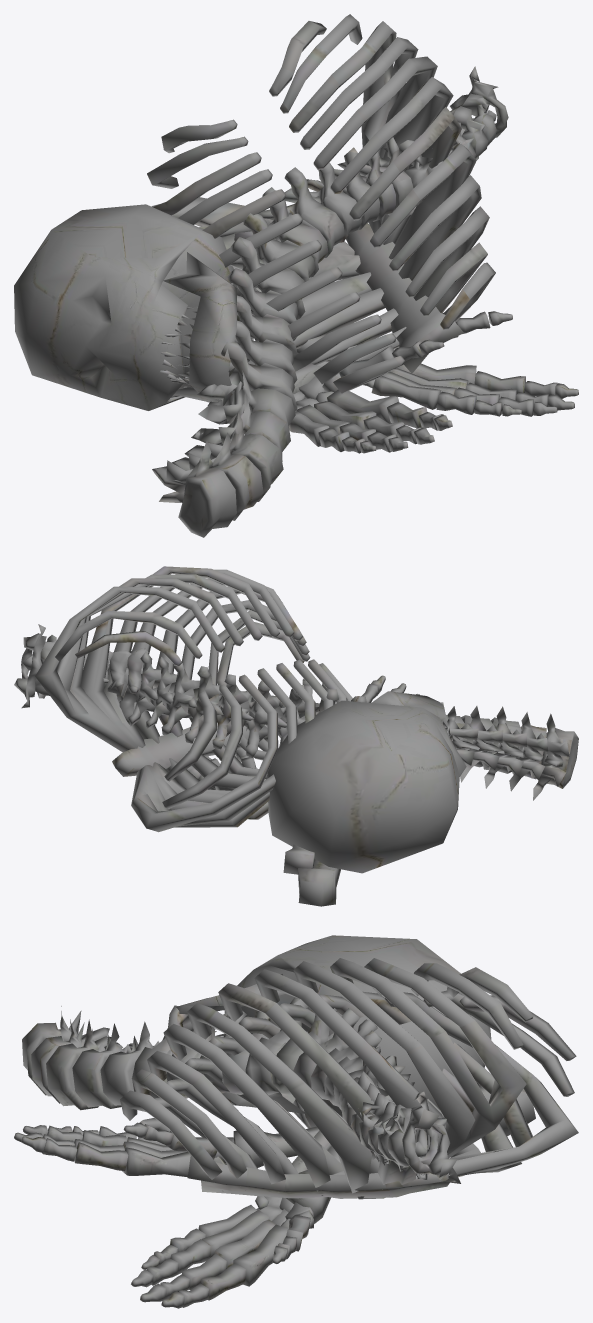
File: Dungeon_BonePile_5.glb
3 views of the same model, one above another, from view 1: azimuth 30°, elevation 25°; view 2: azimuth 150°, elevation 25°; view 3: azimuth 270°, elevation 25° (orthographic). The views are drawn at different scales.
Parts seen in each view (by area): view 1: Dungeon_BonePile_5; view 2: Dungeon_BonePile_5; view 3: Dungeon_BonePile_5.
Boxes of the visible parts, x1,y1,x2,y2 form: Dungeon_BonePile_5: [14, 14, 578, 537]; Dungeon_BonePile_5: [14, 566, 578, 906]; Dungeon_BonePile_5: [14, 935, 578, 1308].
Bounding box in the file's own units: 0.7425 × 0.4262 × 0.7125.
Materials: 1 (1 with a texture image).
